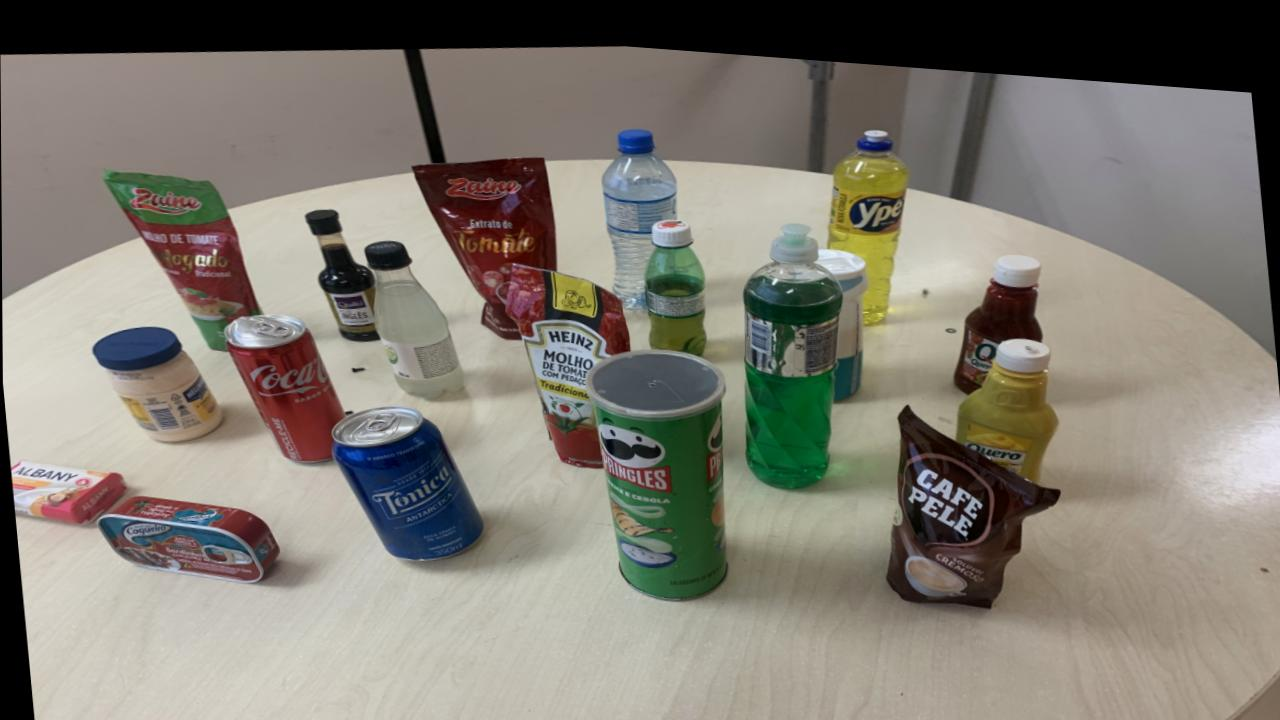Cleaner-Cleanup_Items: (815, 236, 868, 386)
Coffee-Pantry_Items: (886, 393, 1059, 593)
Coke-Drinks: (224, 310, 344, 458)
Detergent-Cleanup_Items: (741, 212, 842, 476), (826, 115, 908, 312)
English_Sauce-Pantry_Items: (305, 205, 379, 336)
Guarana-Drinks: (644, 208, 706, 345)
Ketchup-Pantry_Items: (953, 238, 1042, 378)
Mayonnaise-Pantry_Items: (91, 325, 222, 439)
Mustard-Pantry_Items: (954, 322, 1057, 467)
Pringles-Snacks: (585, 339, 727, 589)
Soap-Cleanup_Items: (10, 460, 126, 523)
Soda-Drinks: (363, 235, 463, 392)
Tomato_Sauce-Pantry_Items: (102, 168, 260, 348), (413, 150, 557, 332), (504, 256, 629, 459)
Tonic-Drinks: (330, 399, 482, 553)
Tuna_Can-Pantry_Items: (97, 494, 277, 579)
Water_Bottle-Drinks: (601, 119, 677, 300)
